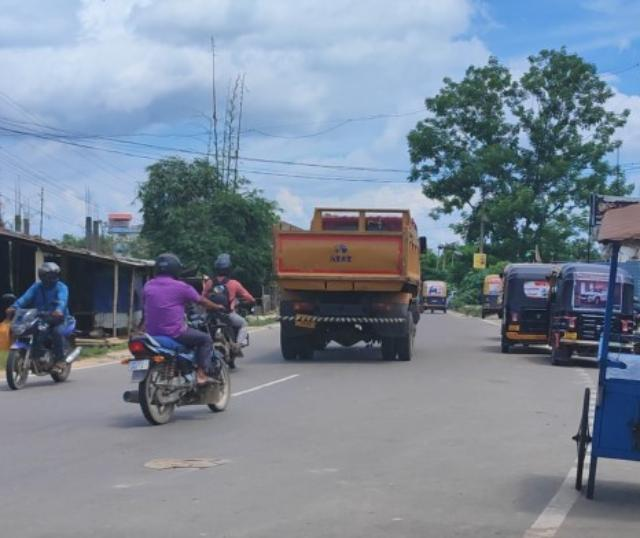licensePlate: (125, 357, 151, 372)
motorcycle: (120, 253, 231, 424), (0, 255, 72, 394), (196, 246, 248, 361)
withHelmet: (152, 255, 181, 279), (36, 262, 57, 284), (212, 252, 231, 276)
